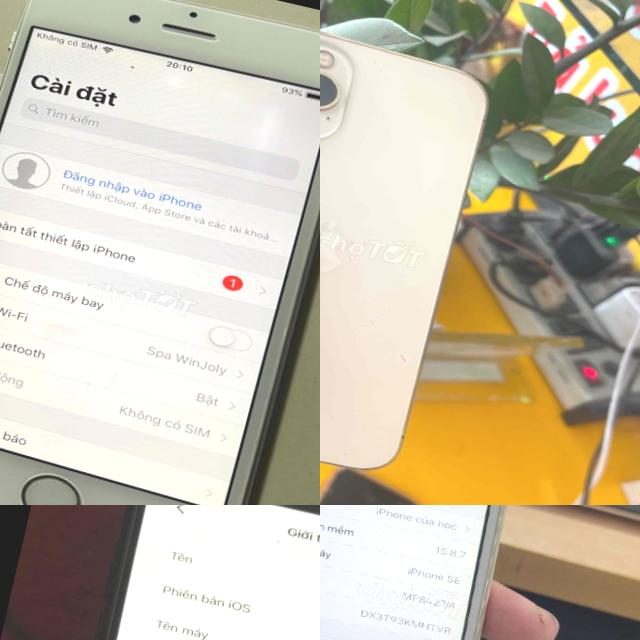gen_11: (5, 505, 320, 640)
gen_12_13: (320, 0, 505, 495)
gen_6: (0, 0, 320, 505), (320, 505, 506, 640)
